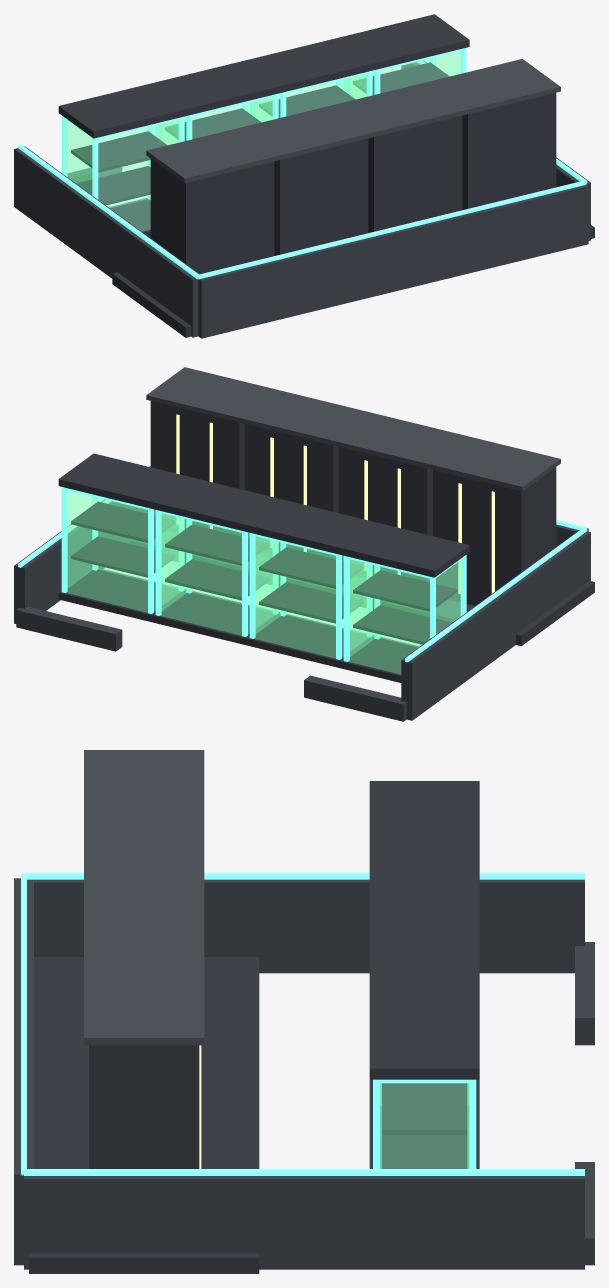
The model's file is storage_yard_v2.glb.
3 views of the same model, one above another, from view 1: azimuth 30°, elevation 25°; view 2: azimuth 150°, elevation 25°; view 3: azimuth 270°, elevation 25° (orthographic). The views are drawn at different scales.
Visible parts, largest first — view 1: part_yard_wall_b, part_cab_dark_0, part_yard_wall_l, part_cab_dark_3, part_cab_dark_2, part_cab_dark_1, part_cab_glass_0, part_cab_top_0, part_cab_cap_t_0, part_cab_top_2, part_cab_top_3, part_cab_top_1 (+16 smaller); view 2: part_yard_wall_l, part_cab_dark_0, part_cab_glass_2, part_cab_glass_1, part_cab_glass_3, part_cab_glass_0, part_cab_dark_3, part_cab_dark_2, part_cab_dark_1, part_cab_top_0, part_cab_cap_t_0, part_cab_top_2 (+29 smaller); view 3: part_yard_wall_r, part_yard_wall_l, part_plat, part_cab_dark_3, part_cab_top_3, part_cab_cap_t_3, part_cab_top_0, part_cab_top_1, part_cab_top_2, part_cab_cap_t_0, part_cab_cap_t_1, part_cab_cap_t_2 (+11 smaller).
Boxes of the visible parts, x1=… form: part_yard_wall_b: x1=198, y1=185, x2=588, y2=338; part_cab_dark_0: x1=150, y1=158, x2=274, y2=274; part_yard_wall_l: x1=14, y1=146, x2=199, y2=337; part_cab_dark_3: x1=462, y1=92, x2=556, y2=210; part_cab_dark_2: x1=368, y1=115, x2=462, y2=232; part_cab_dark_1: x1=274, y1=138, x2=368, y2=255; part_cab_glass_0: x1=65, y1=119, x2=179, y2=231; part_cab_top_0: x1=146, y1=127, x2=278, y2=182; part_cab_cap_t_0: x1=58, y1=83, x2=187, y2=138; part_cab_top_2: x1=335, y1=82, x2=466, y2=137; part_cab_top_3: x1=429, y1=59, x2=560, y2=114; part_cab_top_1: x1=241, y1=104, x2=372, y2=159; part_yard_wall_l: x1=401, y1=531, x2=590, y2=720; part_cab_dark_0: x1=433, y1=467, x2=556, y2=605; part_cab_glass_2: x1=160, y1=513, x2=272, y2=635; part_cab_glass_1: x1=254, y1=536, x2=366, y2=658; part_cab_glass_3: x1=66, y1=490, x2=178, y2=612; part_cab_glass_0: x1=348, y1=558, x2=463, y2=674; part_cab_dark_3: x1=150, y1=401, x2=244, y2=536; part_cab_dark_2: x1=244, y1=424, x2=338, y2=559; part_cab_dark_1: x1=338, y1=447, x2=432, y2=581; part_cab_top_0: x1=428, y1=436, x2=560, y2=491; part_cab_cap_t_0: x1=340, y1=522, x2=469, y2=577; part_cab_top_2: x1=240, y1=390, x2=372, y2=445; part_yard_wall_r: x1=24, y1=1176, x2=584, y2=1269; part_yard_wall_l: x1=33, y1=879, x2=584, y2=973; part_plat: x1=29, y1=957, x2=259, y2=1273; part_cab_dark_3: x1=89, y1=1045, x2=199, y2=1168; part_cab_top_3: x1=84, y1=966, x2=204, y2=1045; part_cab_cap_t_3: x1=369, y1=996, x2=479, y2=1079; part_cab_top_0: x1=84, y1=750, x2=204, y2=821; part_cab_top_1: x1=84, y1=822, x2=204, y2=893; part_cab_top_2: x1=84, y1=894, x2=204, y2=965; part_cab_cap_t_0: x1=369, y1=781, x2=479, y2=852; part_cab_cap_t_1: x1=369, y1=853, x2=479, y2=924; part_cab_cap_t_2: x1=369, y1=925, x2=479, y2=996.
Size of the model in its own units: 7.4 by 2.46 by 5.8.
